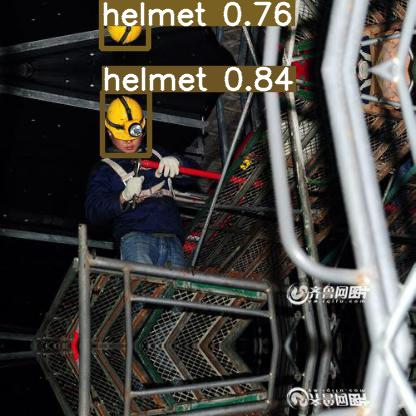helmet: (102, 91, 149, 155), (101, 0, 148, 48)
